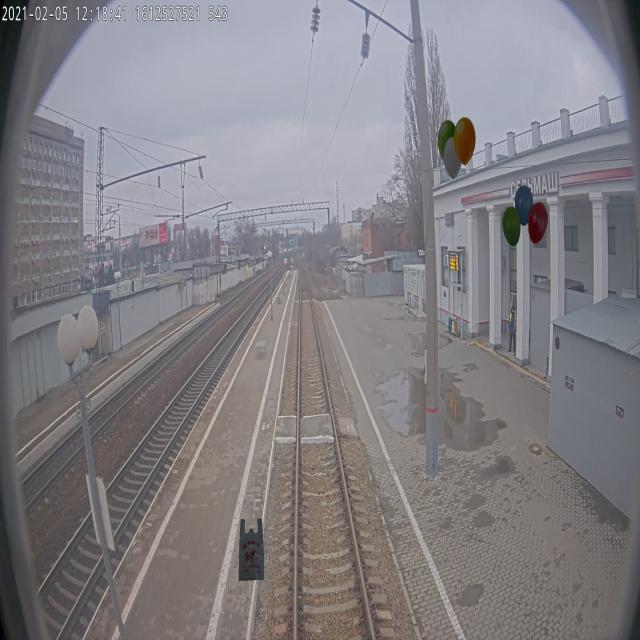balloon: (502, 184, 548, 248), (437, 116, 476, 180)
plastic bag: (239, 518, 264, 582)
